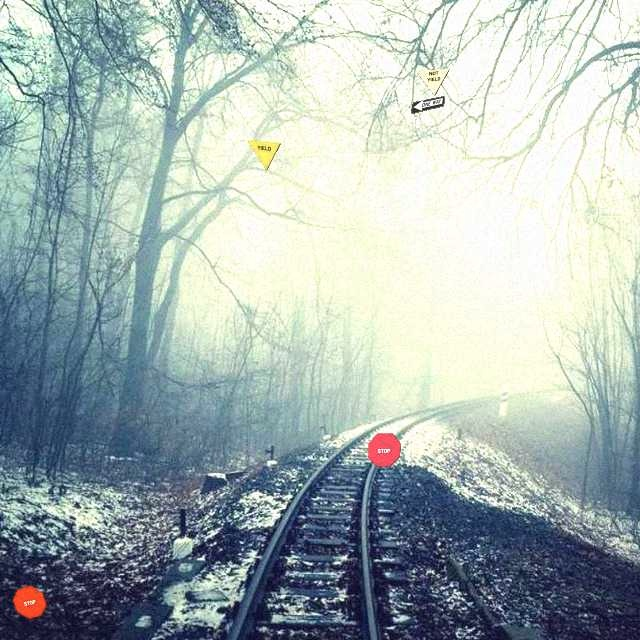NOT_YIELD: (415, 68, 450, 96)
ONE_WAY_ left: (410, 95, 445, 114)
STOP: (367, 432, 401, 467), (12, 585, 47, 619)
YIELD: (246, 139, 281, 171)
